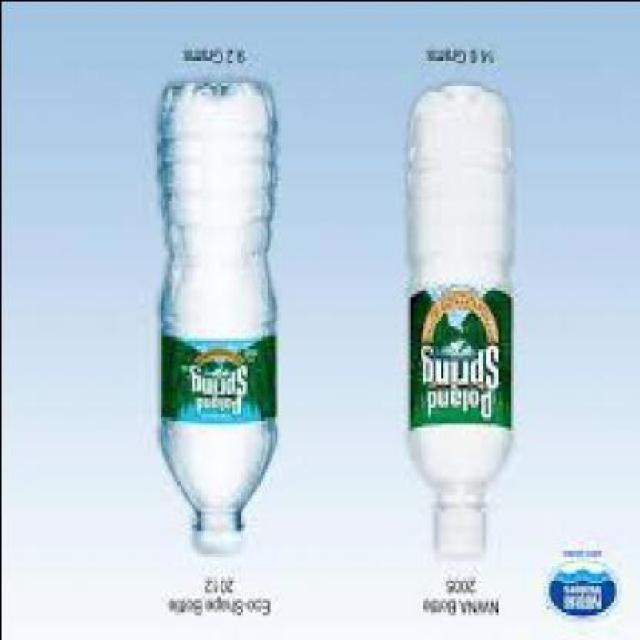PLASTIC: (157, 81, 280, 562), (409, 84, 514, 562), (435, 507, 487, 559), (191, 519, 246, 559)
